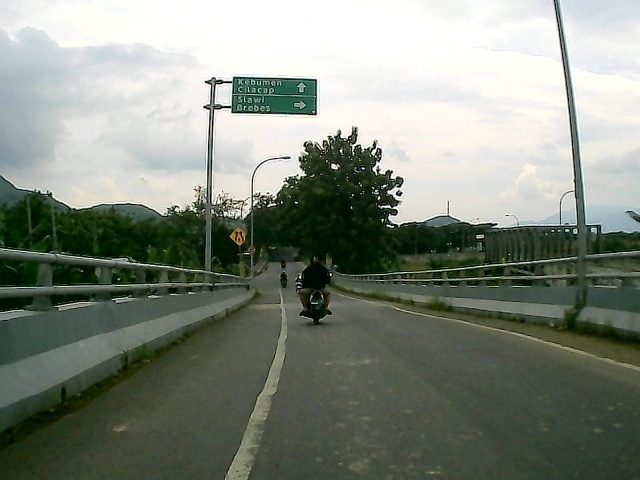Akhir bangunan pemisah satu arah: (228, 226, 249, 248)
